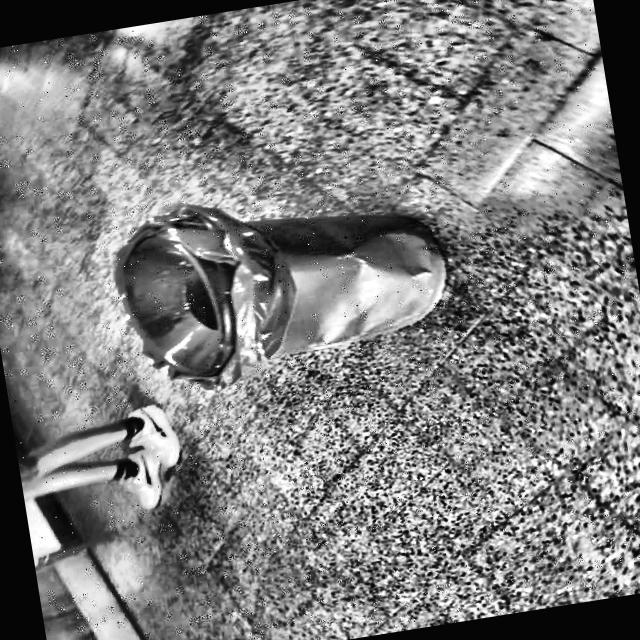Dustbin: (86, 143, 488, 420)
